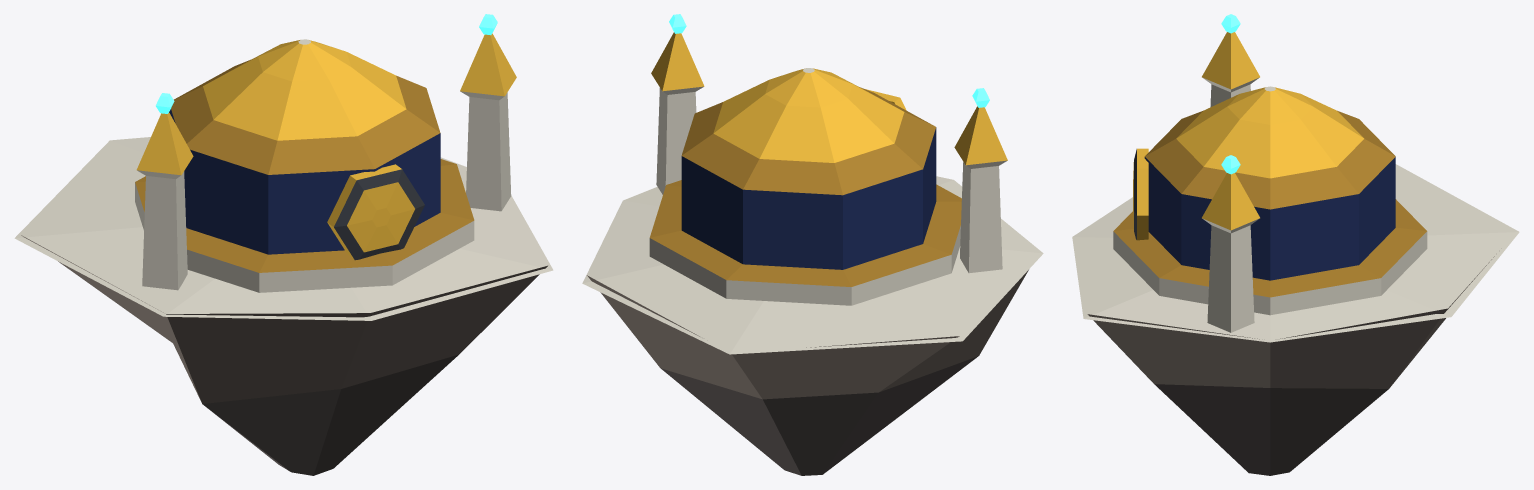
File: SM_Env_SkyVault_LQ.glb
3 views of the same model, side by side, from view 1: azimuth 30°, elevation 25°; view 2: azimuth 150°, elevation 25°; view 3: azimuth 270°, elevation 25° (orthographic). The views are drawn at different scales.
Visible parts, largest first — view 1: SM_Env_SkyVault_LQ; view 2: SM_Env_SkyVault_LQ; view 3: SM_Env_SkyVault_LQ.
Boxes of the visible parts, x1,y1,x2,y2 form: SM_Env_SkyVault_LQ: (14,14,553,475); SM_Env_SkyVault_LQ: (582,14,1043,475); SM_Env_SkyVault_LQ: (1072,14,1519,475).
Bounding box in the file's own units: 22.38 × 21.33 × 22.81.
Materials: 1 (1 with a texture image).
